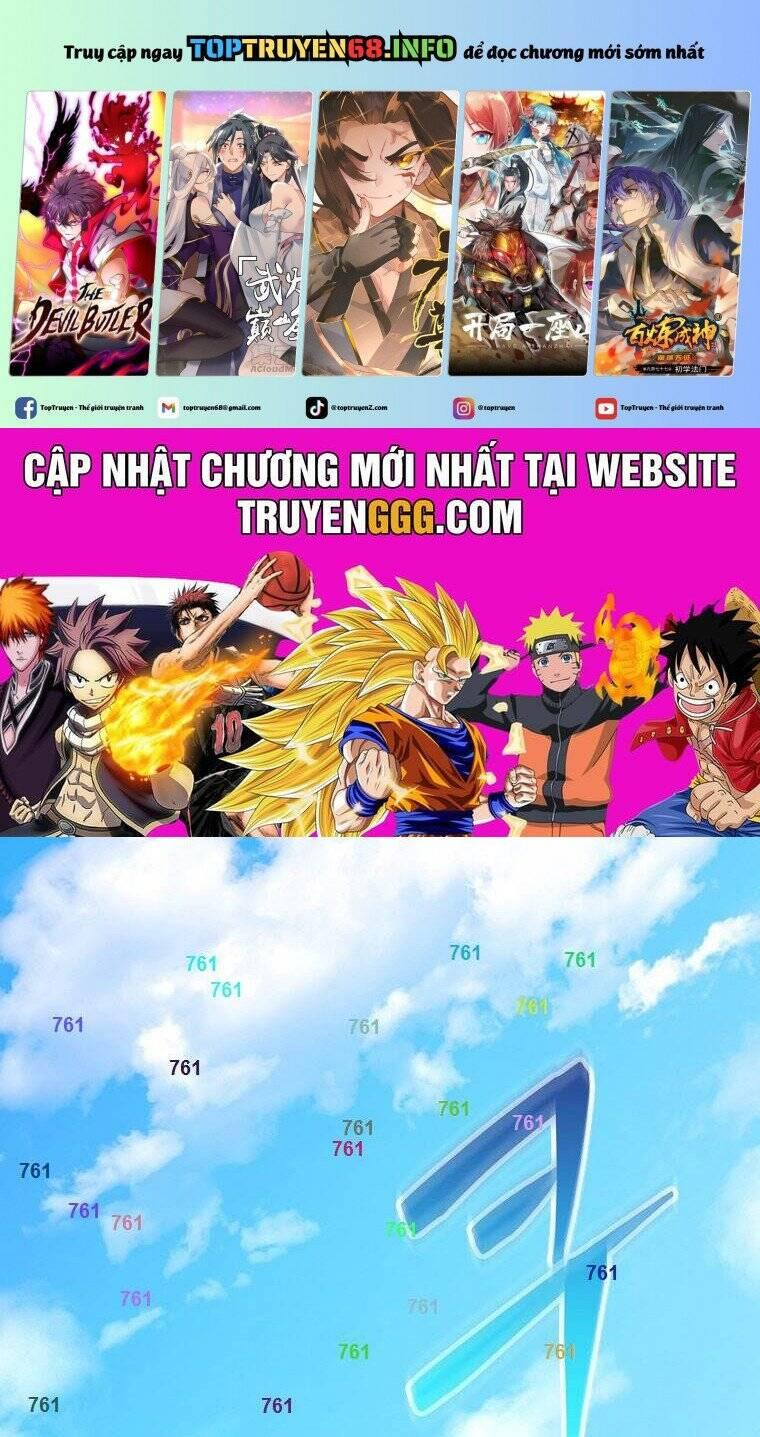quangcao: (0, 0, 760, 844)
